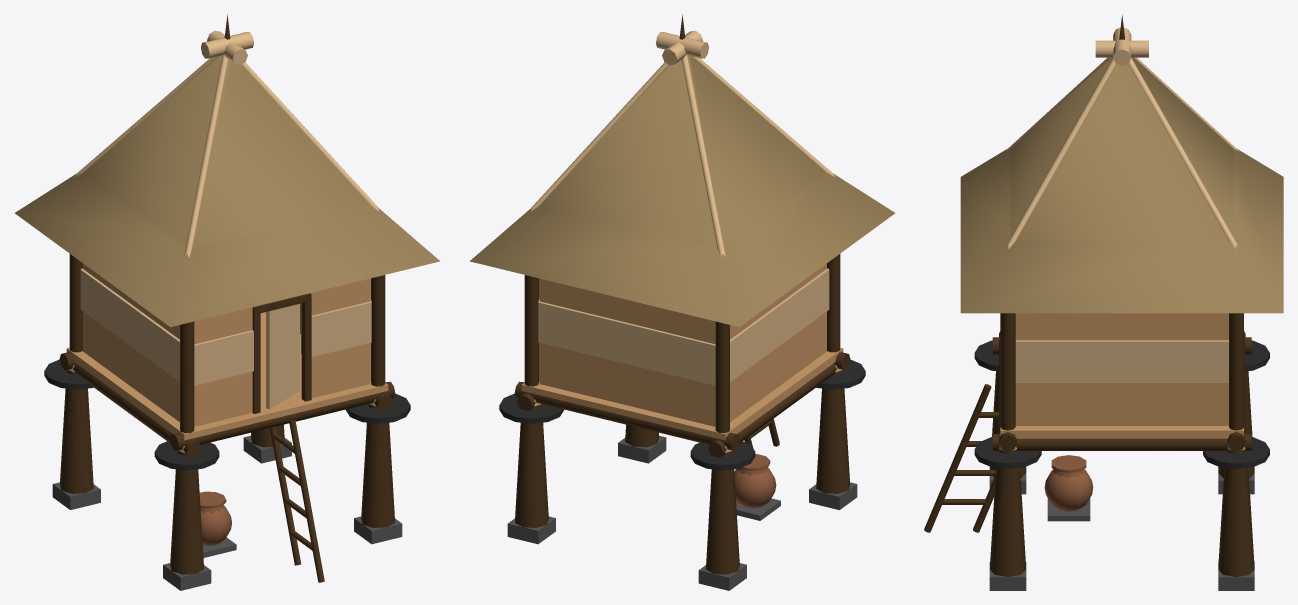
File: rice-barn.glb
3 views of the same model, side by side, from view 1: azimuth 30°, elevation 25°; view 2: azimuth 150°, elevation 25°; view 3: azimuth 270°, elevation 25° (orthographic). The views are drawn at different scales.
Parts seen in each view (by area): view 1: Mesh_ThatchEaves, Mesh_ThatchMain, Mesh_Floor, Mesh_WallRight, Mesh_WallRightBulge, Mesh_WallFrontL, Mesh_WallFrontR, Mesh_DoorPanel, Mesh_Stilt_0, Mesh_Stilt_1, Mesh_Stilt_2, Mesh_WallFrontLBulge (+22 smaller); view 2: Mesh_ThatchEaves, Mesh_ThatchMain, Mesh_WallBack, Mesh_WallBackBulge, Mesh_WallRight, Mesh_WallRightBulge, Mesh_Floor, Mesh_Stilt_2, Mesh_Stilt_3, Mesh_Stilt_0, Mesh_FrameBeamZ_2, Mesh_CornerPillar_3 (+16 smaller); view 3: Mesh_ThatchEaves, Mesh_ThatchMain, Mesh_WallLeft, Mesh_WallLeftBulge, Mesh_Stilt_1, Mesh_Stilt_3, Mesh_FrameBeamX_2, Mesh_Floor, Mesh_CornerPillar_1, Mesh_CornerPillar_3, Mesh_JarBody, Mesh_RoofPole3 (+15 smaller).
Part boxes in pixels (x1,y1,x2,y2): Mesh_ThatchEaves: (14,173,439,327); Mesh_ThatchMain: (83,55,369,248); Mesh_Floor: (66,312,388,440); Mesh_WallRight: (83,263,179,421); Mesh_WallRightBulge: (80,268,179,381); Mesh_WallFrontL: (310,278,370,398); Mesh_WallFrontR: (194,307,252,426); Mesh_DoorPanel: (266,304,299,409); Mesh_Stilt_0: (170,451,203,574); Mesh_Stilt_1: (361,404,395,527); Mesh_Stilt_2: (59,370,93,493); Mesh_WallFrontLBulge: (301,300,371,356); Mesh_ThatchEaves: (470,173,895,327); Mesh_ThatchMain: (540,55,826,248); Mesh_WallBack: (539,278,715,426); Mesh_WallBackBulge: (538,300,715,385); Mesh_WallRight: (730,263,826,421); Mesh_WallRightBulge: (730,268,829,381); Mesh_Floor: (521,347,843,440); Mesh_Stilt_2: (706,451,739,574); Mesh_Stilt_3: (514,404,548,527); Mesh_Stilt_0: (816,370,850,493); Mesh_FrameBeamZ_2: (514,381,739,450); Mesh_CornerPillar_3: (524,275,538,386); Mesh_ThatchEaves: (960,148,1283,313); Mesh_ThatchMain: (1010,57,1233,240); Mesh_WallLeft: (1015,313,1228,425); Mesh_WallLeftBulge: (1015,340,1228,382); Mesh_Stilt_1: (989,450,1026,576); Mesh_Stilt_3: (1218,450,1254,576); Mesh_FrameBeamX_2: (992,434,1251,450); Mesh_Floor: (1000,426,1243,438); Mesh_CornerPillar_1: (1000,313,1015,430); Mesh_CornerPillar_3: (1229,313,1243,430); Mesh_JarBody: (1044,469,1093,511); Mesh_RoofPole3: (1005,58,1115,248).
Bounding box in the file's own units: 2.12 × 3.78 × 2.36.
